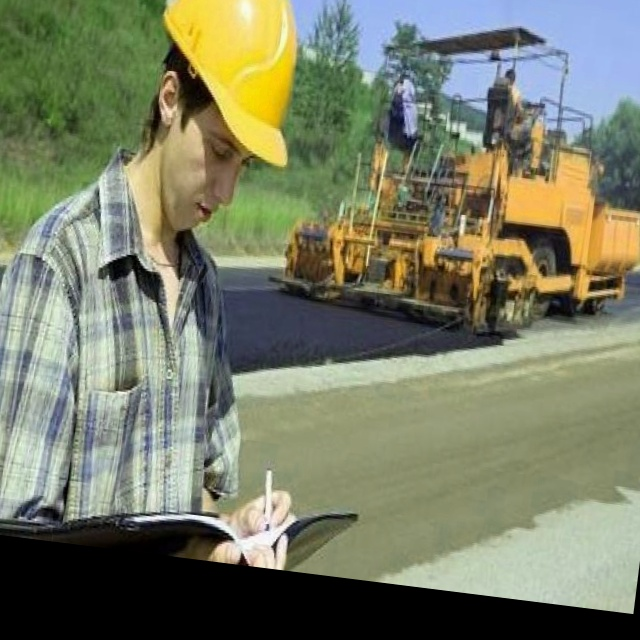Con_Casco: (131, 0, 315, 190)
Sin_Chaleco: (0, 197, 235, 554)
